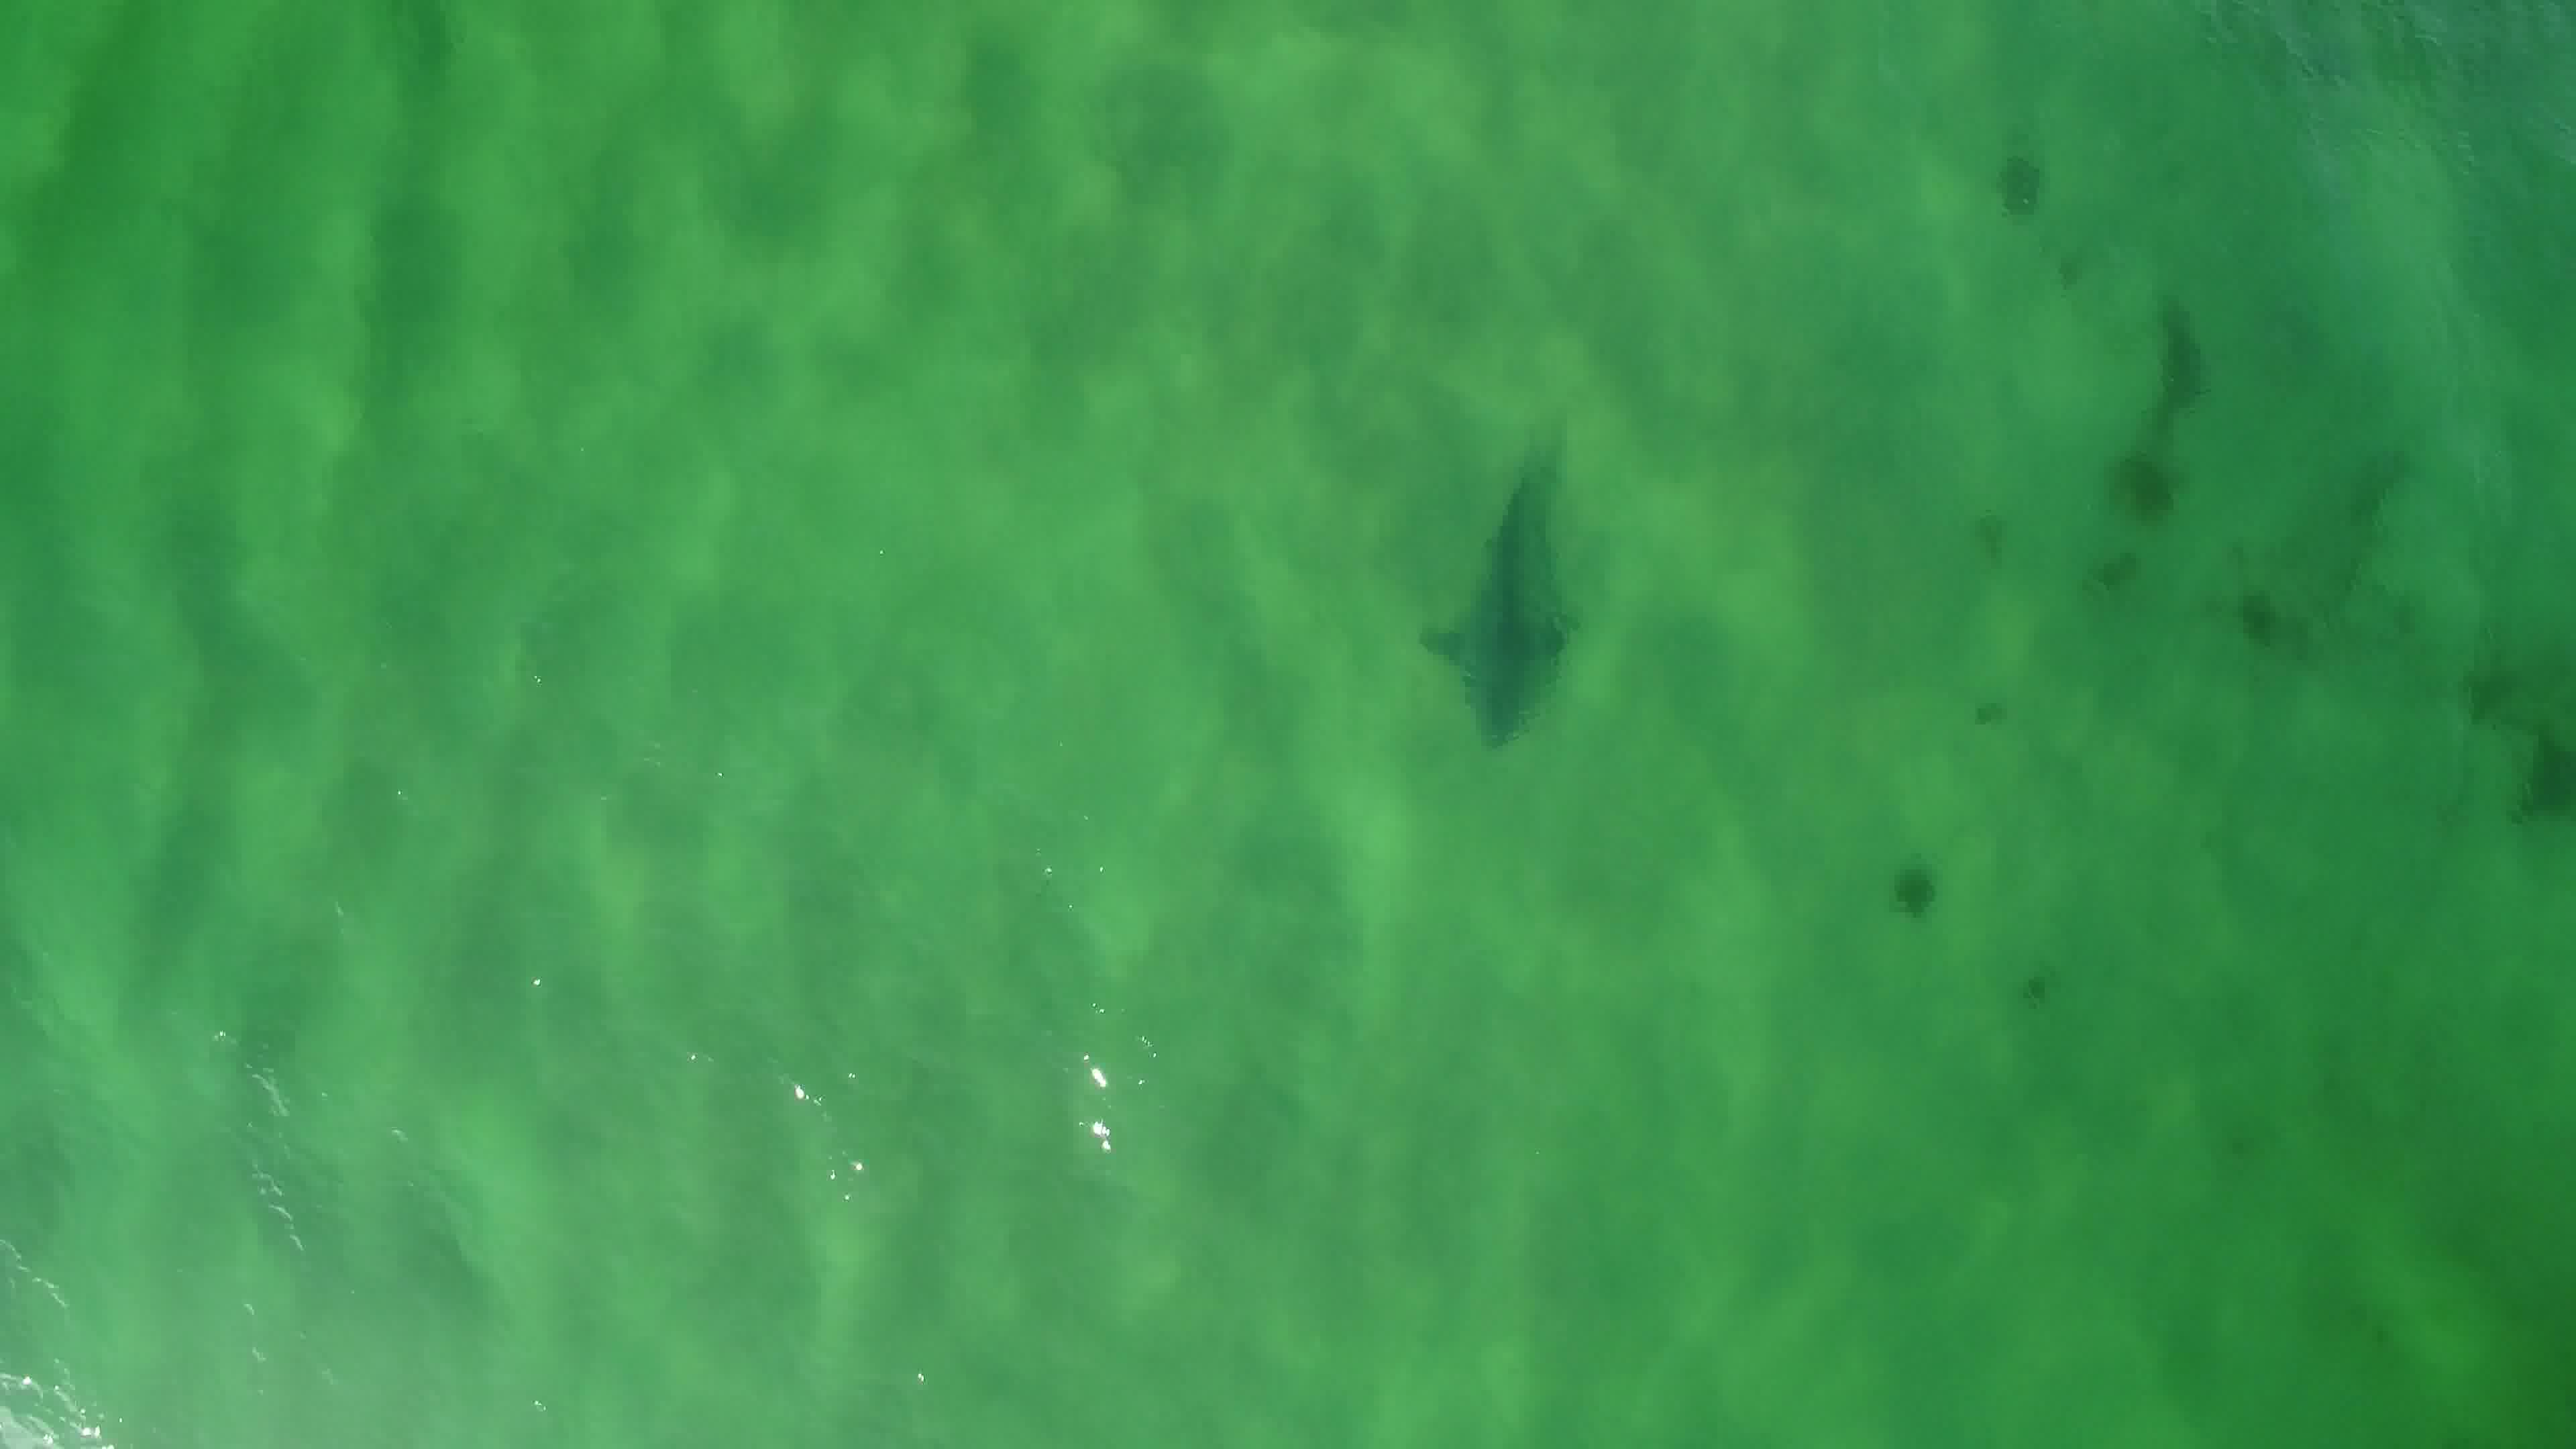shark: (1410, 465, 1585, 755)
